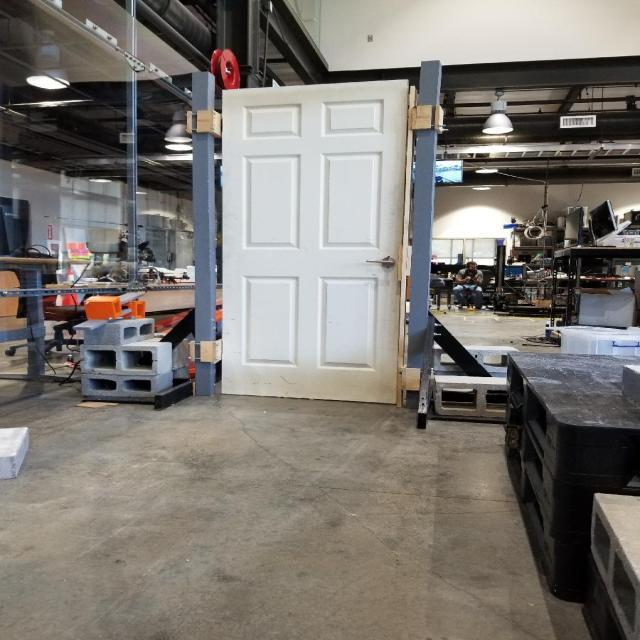door: (219, 75, 411, 408), (364, 255, 398, 272)
